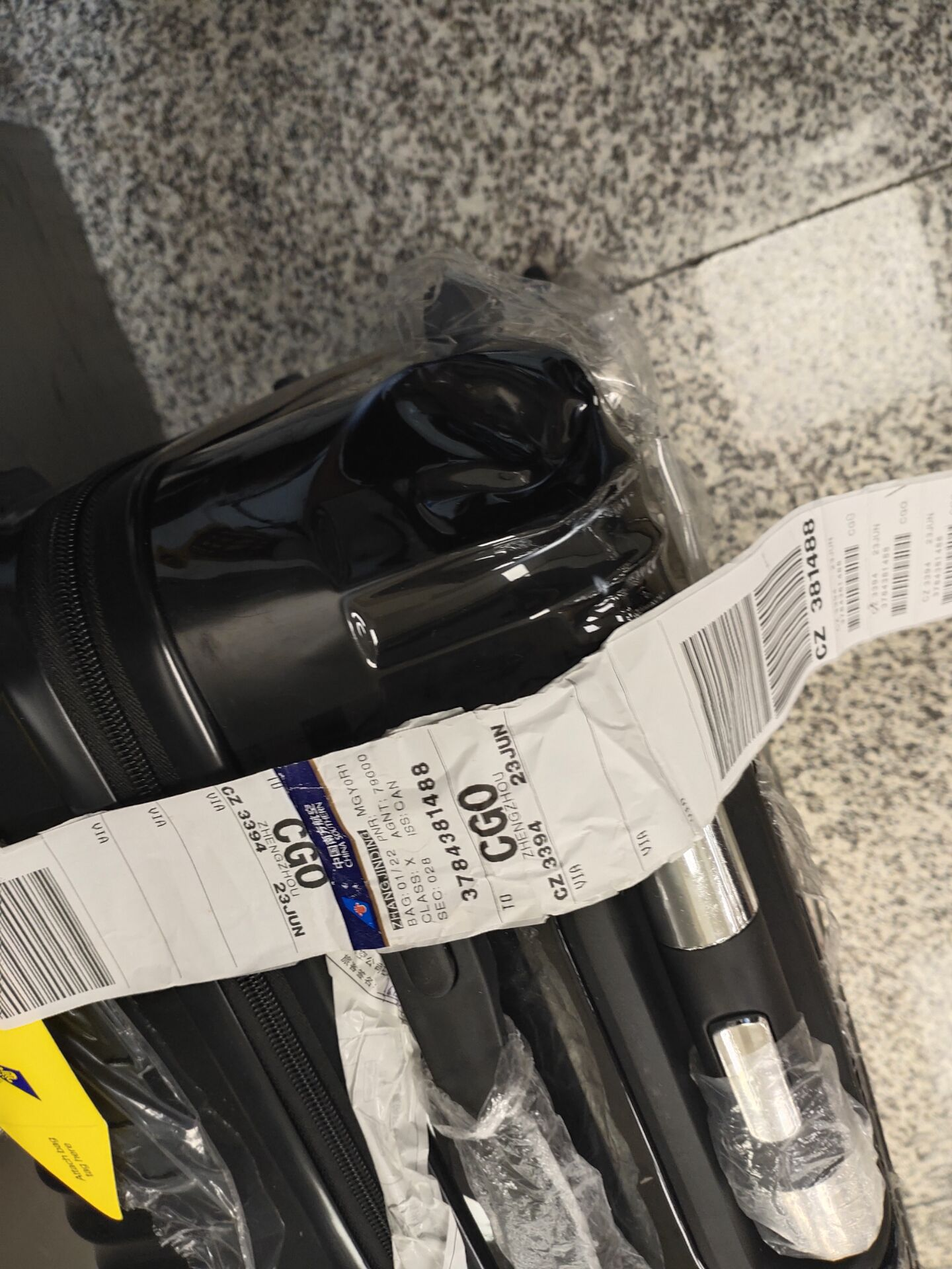rupture: (338, 352, 607, 538)
